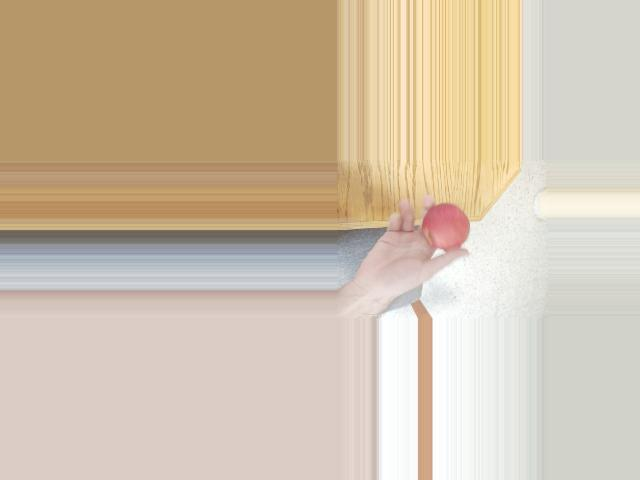apple: (422, 203, 473, 257)
